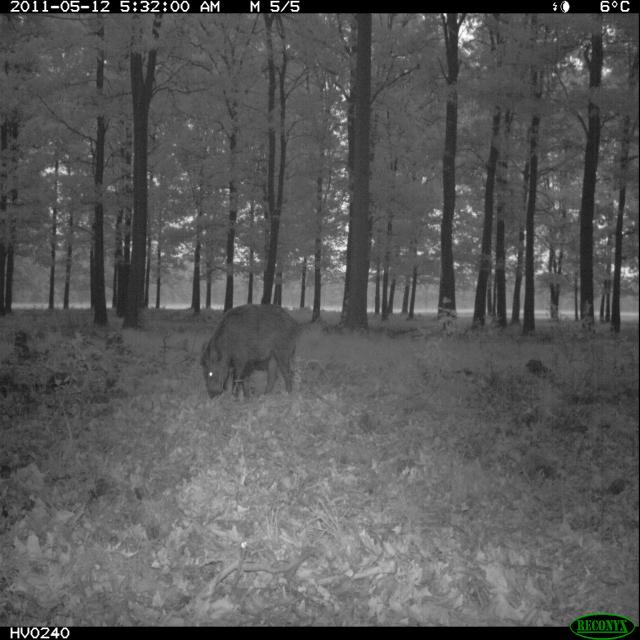boar: (179, 294, 326, 421)
